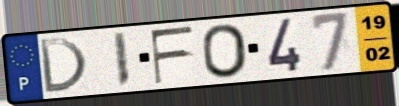4: (265, 16, 303, 75)
7: (309, 9, 352, 74)
D: (36, 37, 90, 95)
F: (147, 24, 197, 87)
I: (111, 30, 132, 89)
O: (199, 22, 251, 80)
